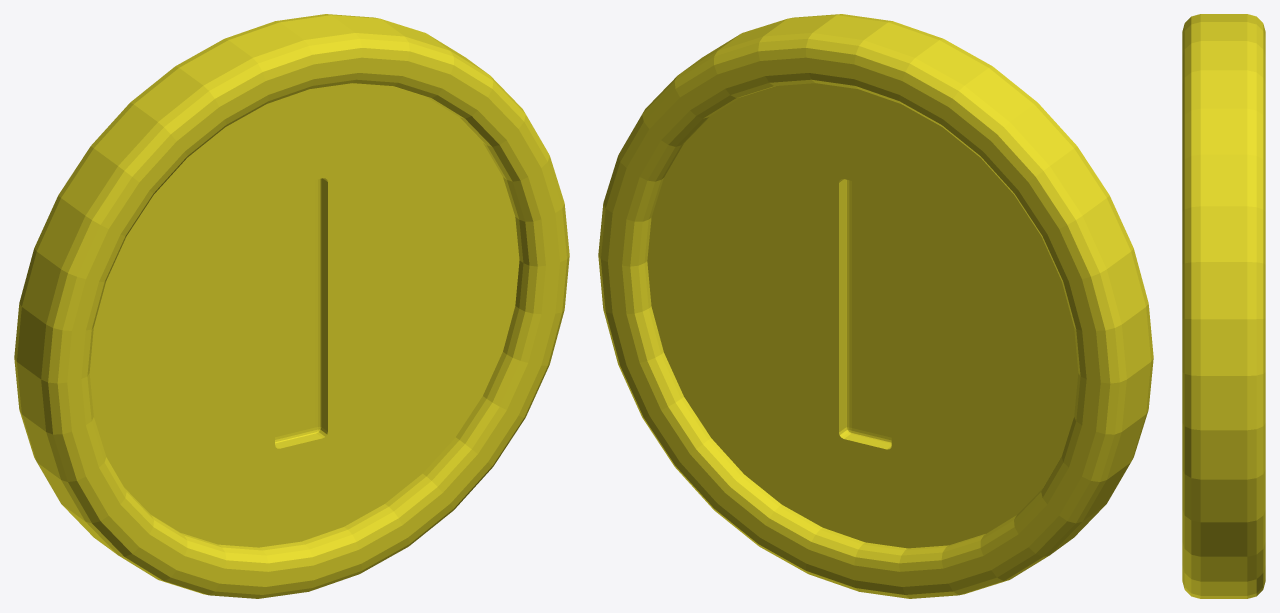
The model's file is coin.fbx.
The picture shows the model from 3 angles, left to right: view 1: azimuth 30°, elevation 25°; view 2: azimuth 150°, elevation 25°; view 3: azimuth 270°, elevation 25°; orthographic projection. The views are drawn at different scales.
Visible parts, largest first — view 1: Cylinder; view 2: Cylinder; view 3: Cylinder.
Boxes of the visible parts, x1=… form: Cylinder: x1=14, y1=14, x2=569, y2=598; Cylinder: x1=598, y1=14, x2=1153, y2=598; Cylinder: x1=1182, y1=14, x2=1265, y2=598.
Bounding box in the file's own units: 200 × 200 × 28.55.
